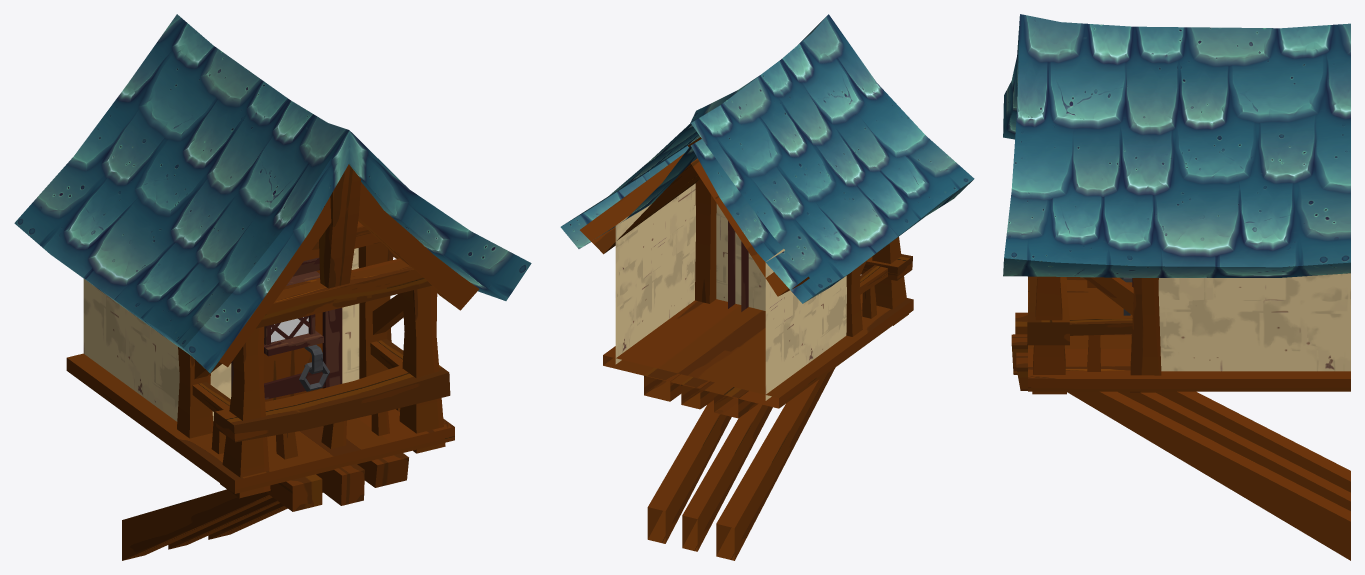
Rendered from SM_BLD_balcony_v02_01.fbx.
The picture shows the model from 3 angles, left to right: view 1: azimuth 30°, elevation 25°; view 2: azimuth 150°, elevation 25°; view 3: azimuth 270°, elevation 25°; orthographic projection. The views are drawn at different scales.
Visible parts, largest first — view 1: SM_BLD_balcony_v02_01; view 2: SM_BLD_balcony_v02_01; view 3: SM_BLD_balcony_v02_01.
Part boxes in pixels (left/top/right/bottom): SM_BLD_balcony_v02_01: left=14, top=14, right=531, bottom=560; SM_BLD_balcony_v02_01: left=560, top=14, right=974, bottom=560; SM_BLD_balcony_v02_01: left=1003, top=14, right=1350, bottom=560.
Size of the model in its own units: 535 by 798 by 482.
